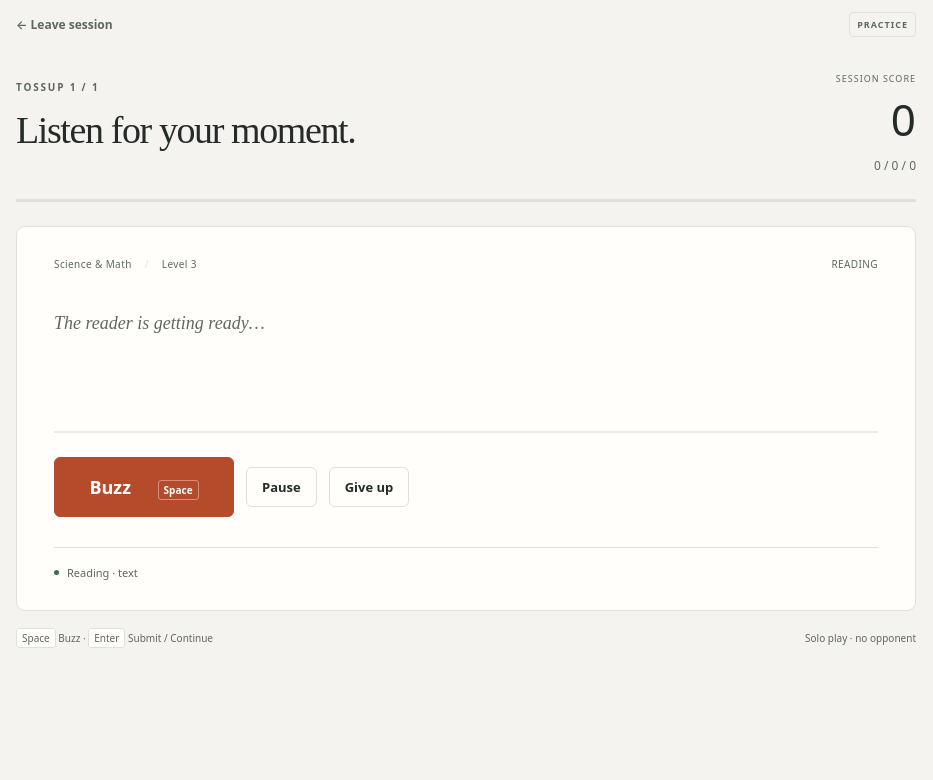
Test: React gameplay integration with mock QBReader › handles directed prompt and clarification without revealing an answer
Click the button "Buzz Space" at {"x": 144, "y": 487}, box [54, 457, 234, 517]
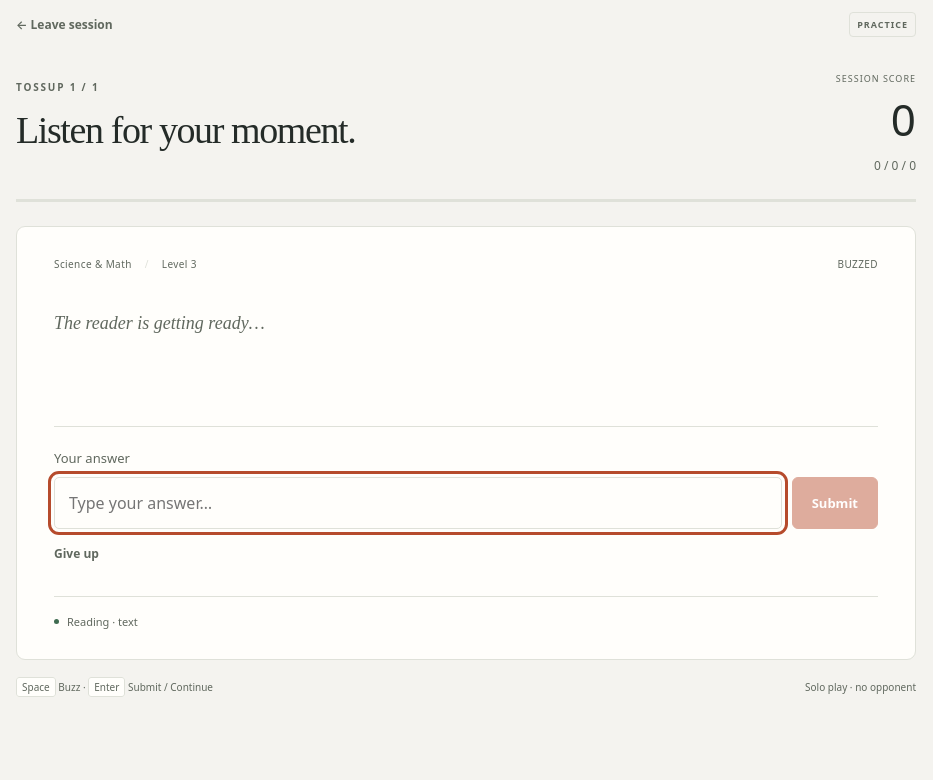
Type "liquid" into the field labelled "Your answer" at {"x": 418, "y": 503}, box [54, 477, 782, 529]
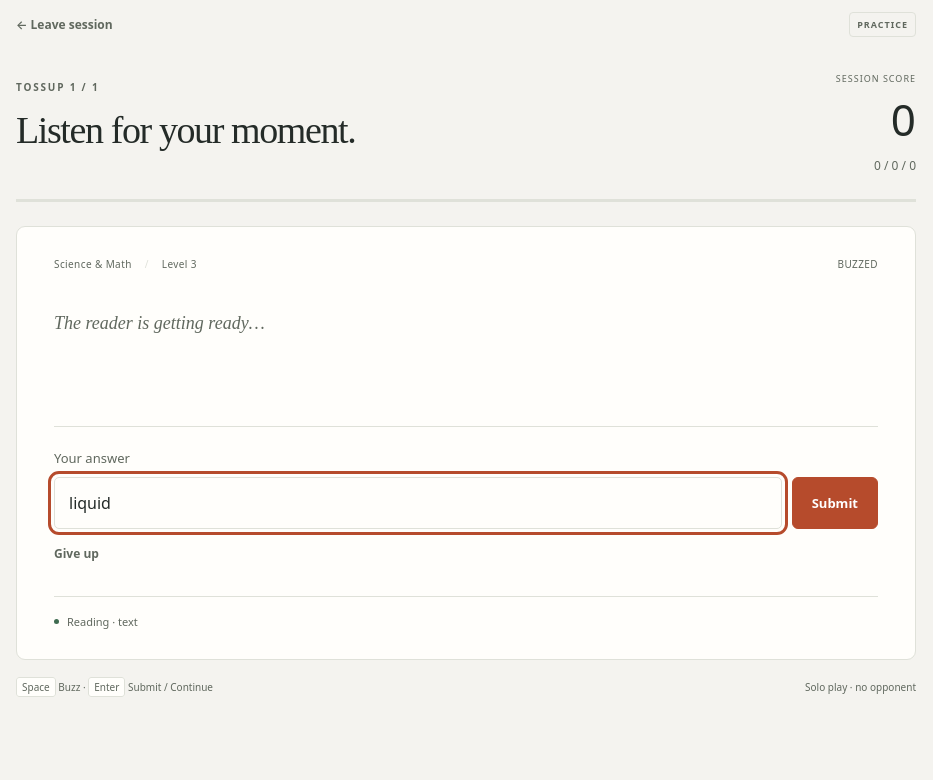
Click the button "Submit" at {"x": 835, "y": 503}, box [792, 477, 878, 529]
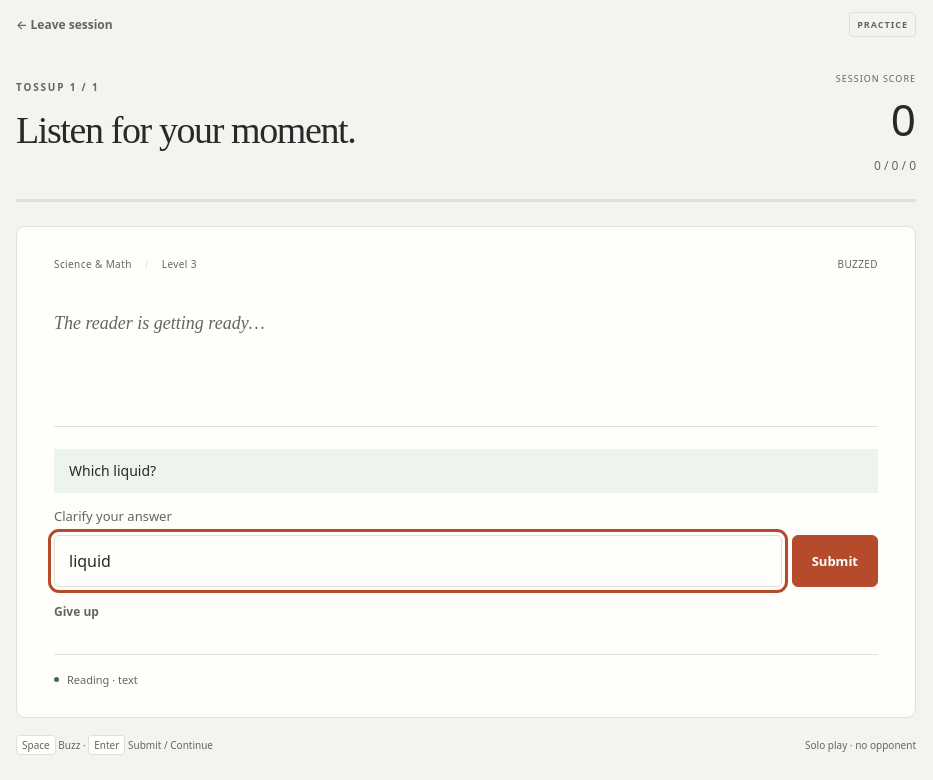
Expected: the text "water [prompt on liquid]" is not shown
Expected: the text "Which liquid?" is shown, [54, 449, 878, 493]
Replace the text in the field labelled "Clarify your answer" with "water" at {"x": 418, "y": 561}, box [54, 535, 782, 587]
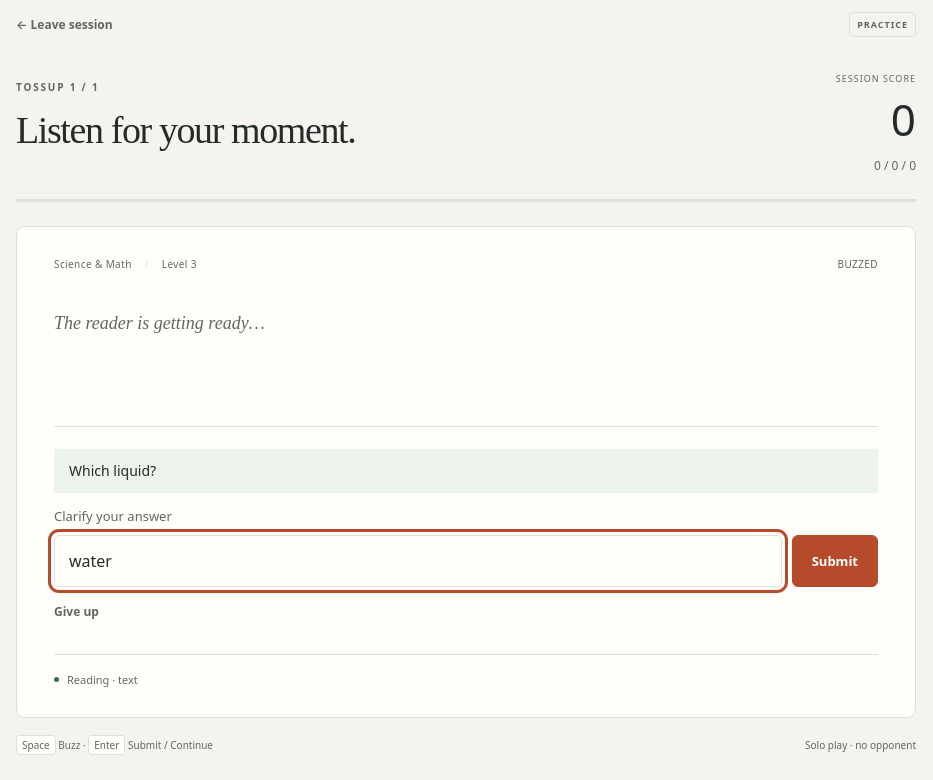
Click the button "Submit" at {"x": 835, "y": 561}, box [792, 535, 878, 587]
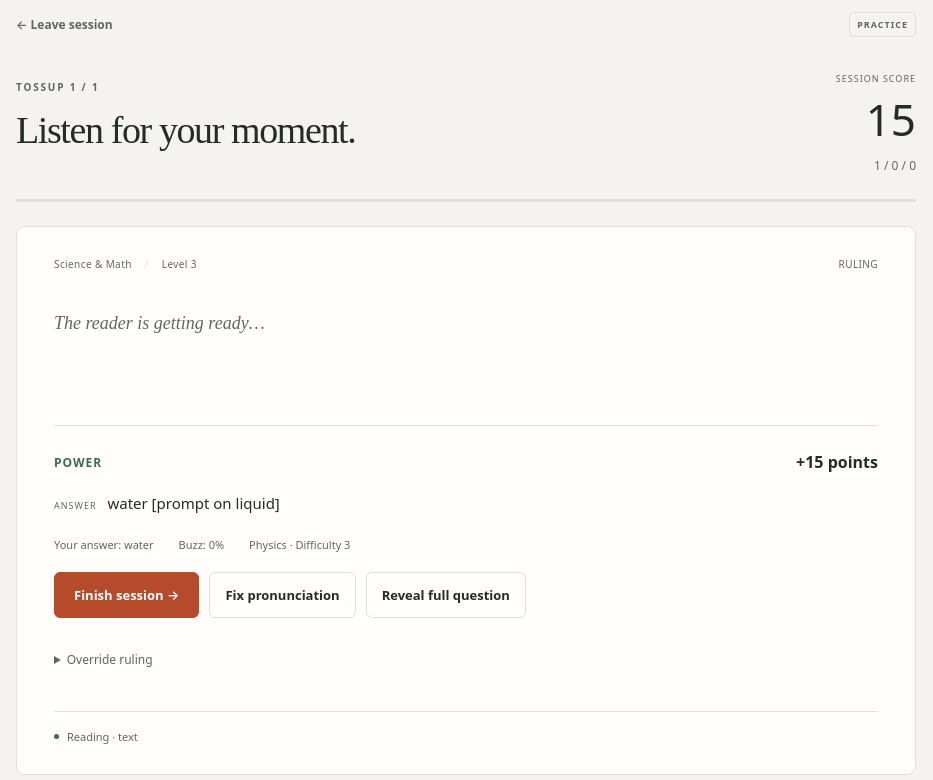
Expected: the text with test id "score" reads "15", [866, 89, 916, 149]
